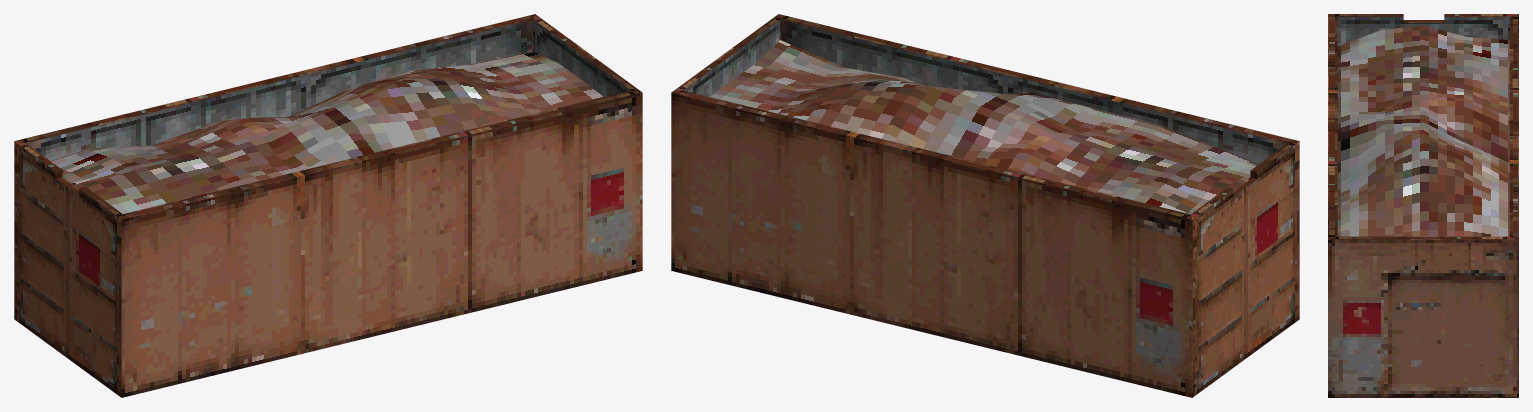
The model's file is cargo_2_full.glb.
The picture shows the model from 3 angles, left to right: view 1: azimuth 30°, elevation 25°; view 2: azimuth 150°, elevation 25°; view 3: azimuth 270°, elevation 25°; orthographic projection. The views are drawn at different scales.
Parts seen in each view (by area): view 1: Cargo_2_full; view 2: Cargo_2_full; view 3: Cargo_2_full.
Part boxes in pixels (x1=…): Cargo_2_full: x1=14, y1=14, x2=642, y2=397; Cargo_2_full: x1=671, y1=14, x2=1299, y2=397; Cargo_2_full: x1=1328, y1=14, x2=1518, y2=397.
Bounding box in the file's own units: 4.94 × 1.76 × 1.76.
1 material, 1 textured.
